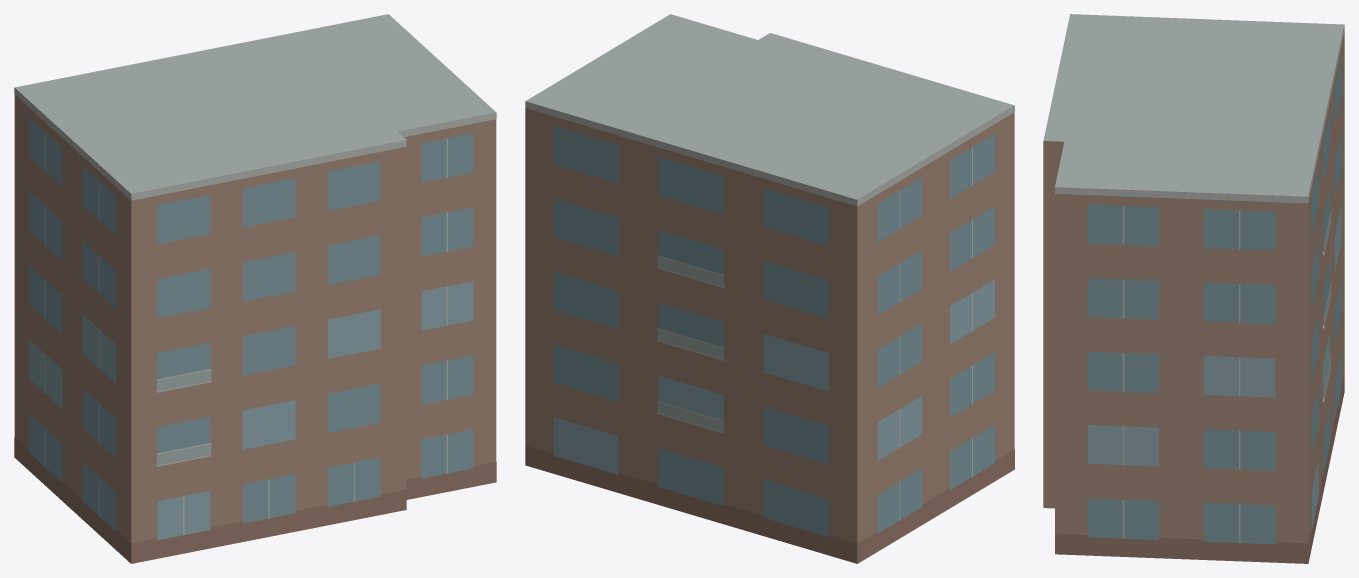
The model's file is survey-upis-32593723.glb.
The picture shows the model from 3 angles, left to right: view 1: azimuth 30°, elevation 25°; view 2: azimuth 150°, elevation 25°; view 3: azimuth 270°, elevation 25°; orthographic projection.
Visible parts, largest first — view 1: survey-upis-32593723.tmp; view 2: survey-upis-32593723.tmp; view 3: survey-upis-32593723.tmp.
Boxes of the visible parts, left/top/right/bottom form: survey-upis-32593723.tmp: left=14, top=14, right=496, bottom=563; survey-upis-32593723.tmp: left=525, top=14, right=1014, bottom=563; survey-upis-32593723.tmp: left=1043, top=14, right=1344, bottom=563.
Size of the model in its own units: 14.21 by 13.3 by 9.9.
